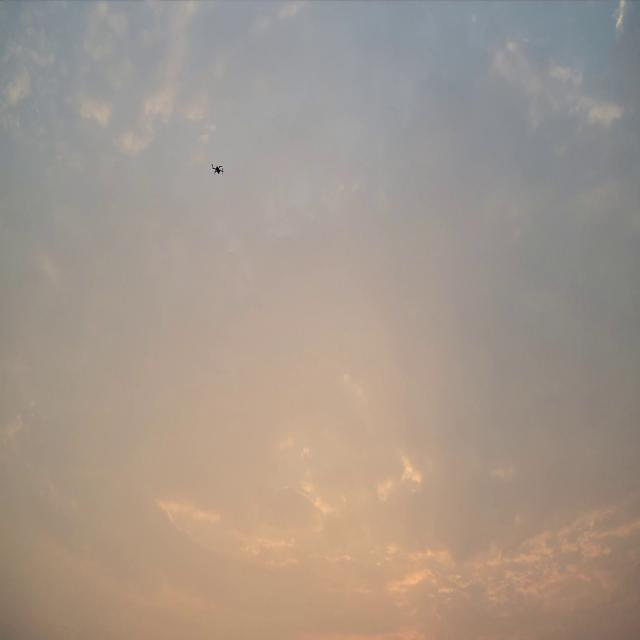drone: (210, 163, 224, 174)
